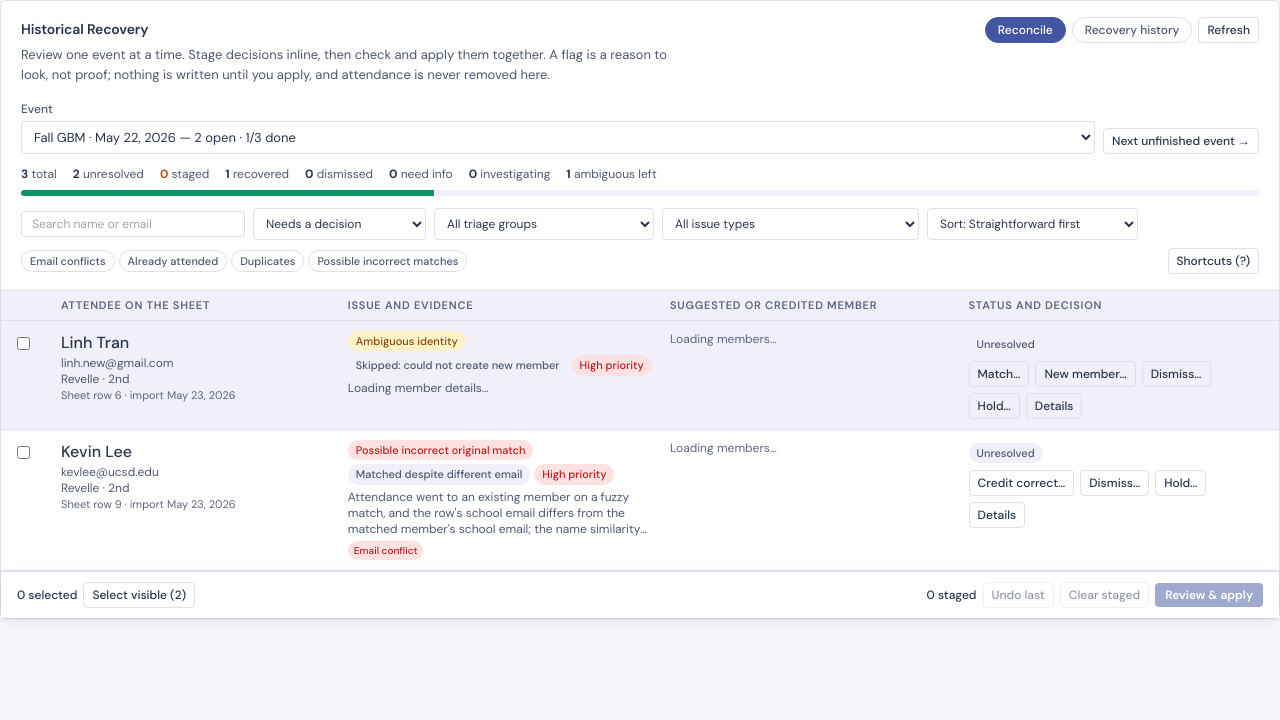
dismissing does not wait for identity lookups
Click the button "Details" in the row of "Loading member details…".
click(1054, 406)  # box [1026, 392, 1082, 418]
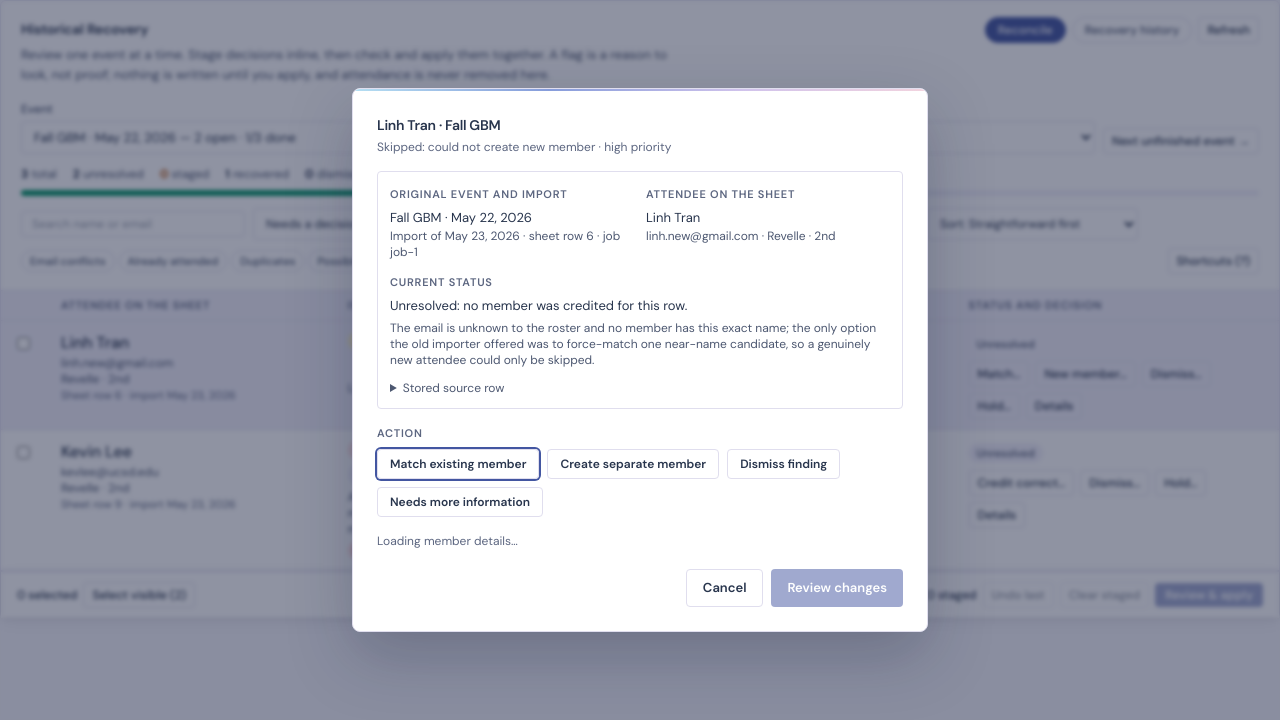
Click the button "Dismiss finding".
click(784, 464)  # box [727, 449, 840, 479]
(page scrolled)
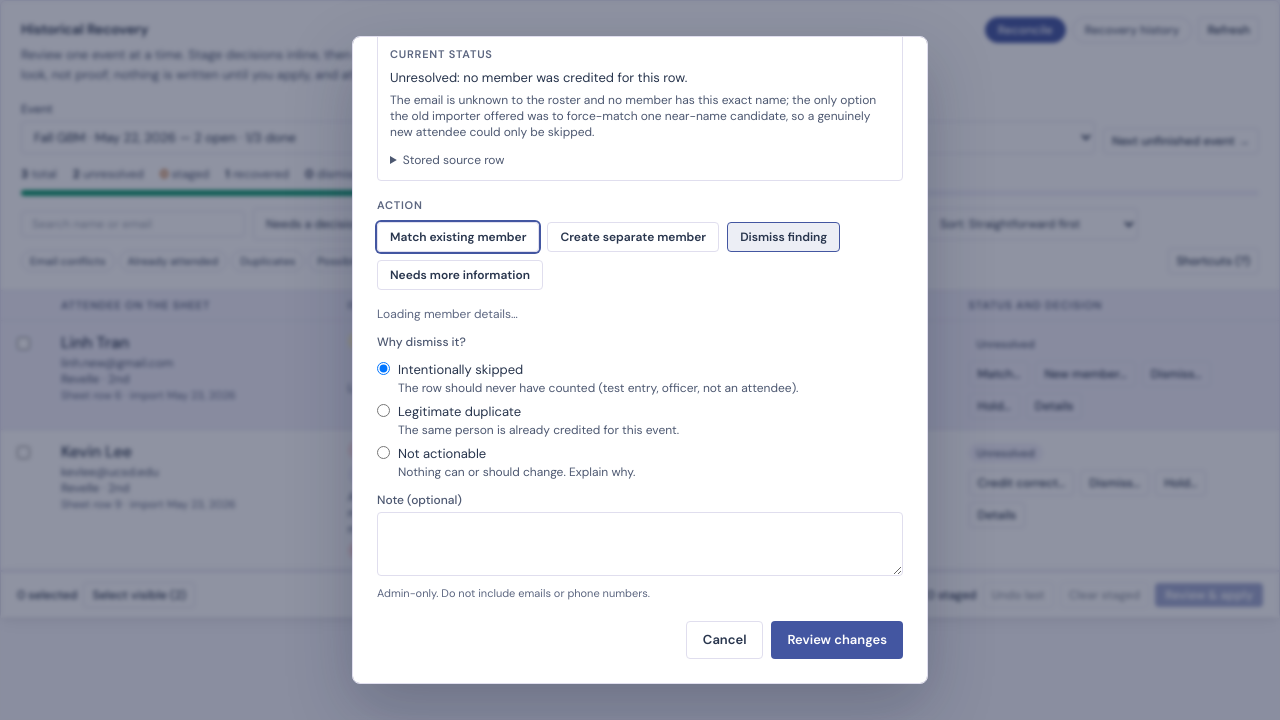
Now the button "Review changes" is enabled, box [771, 621, 903, 659]
